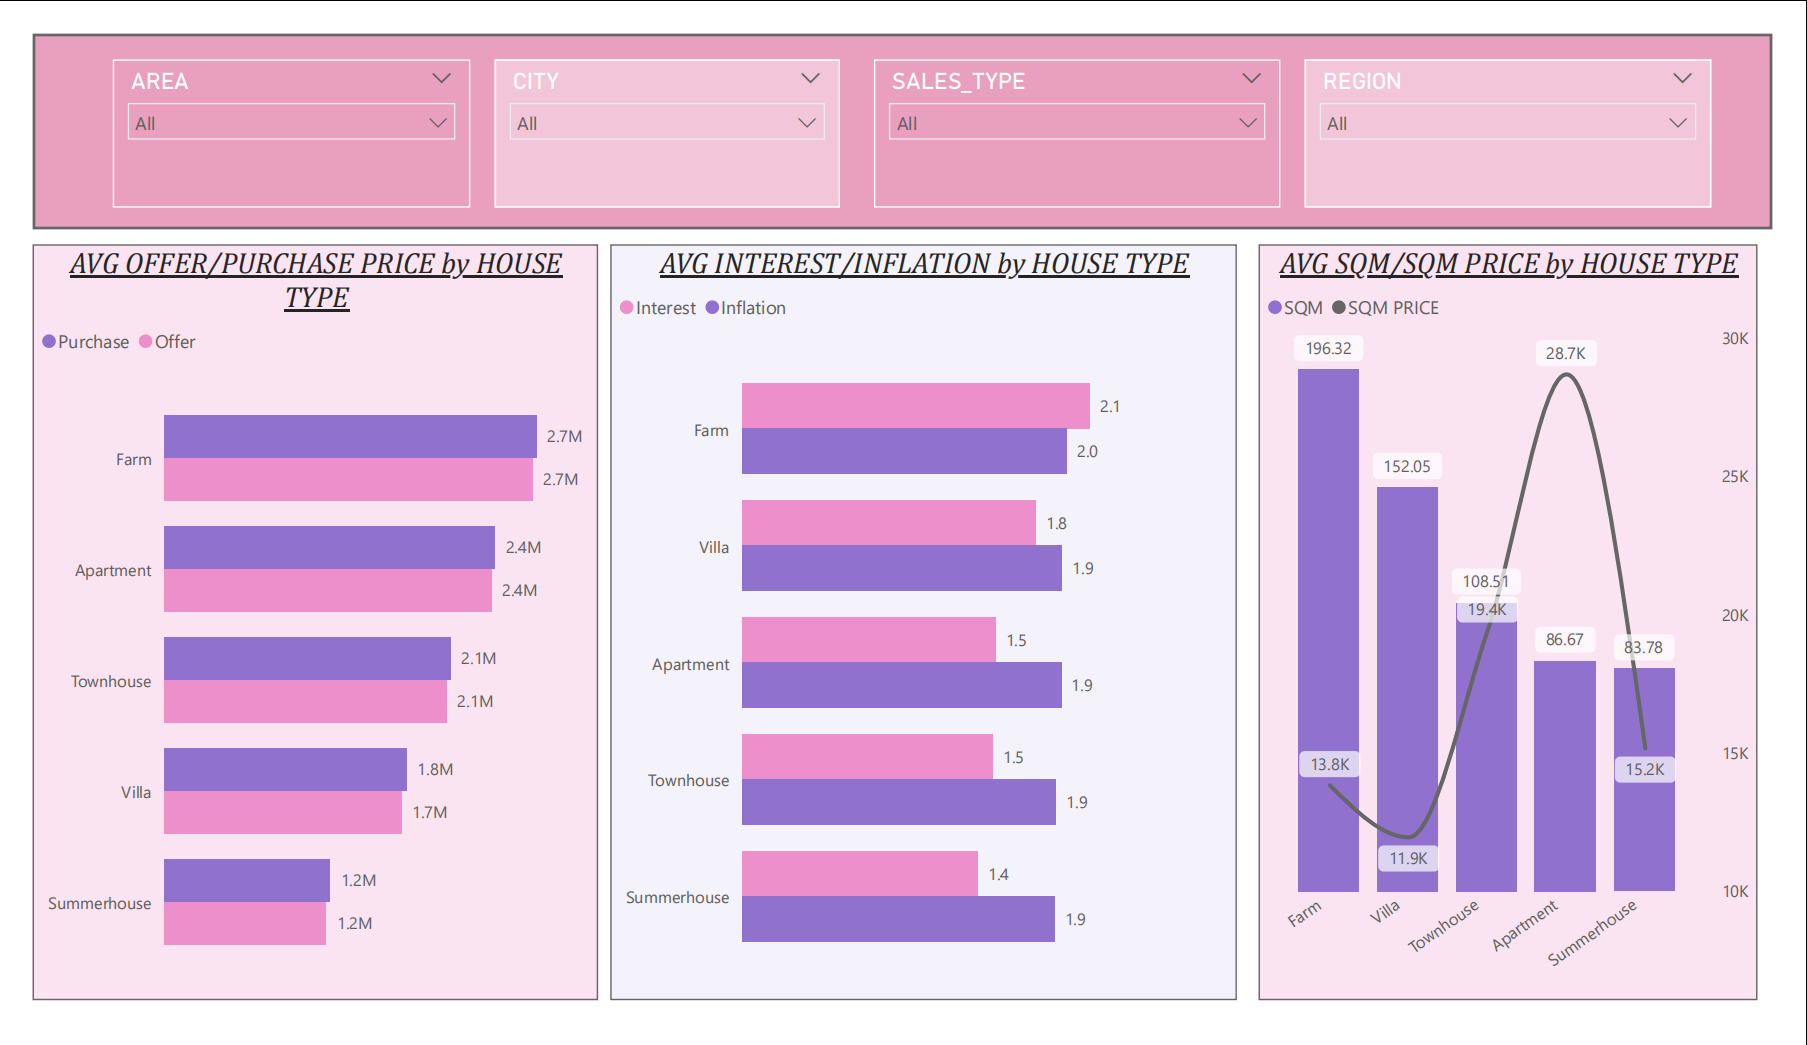

The dashboard page shown, as its layout file describes it:
{"tool":"powerbi","page":{"name":"HOUSE TYPE OVERVIEW","canvas":[1280,720],"ordinal":2},"visuals":[{"type":"clusteredBarChart","title":"AVG OFFER/PURCHASE PRICE by HOUSE TYPE","fields":{"Category":["DATA.HOUSE_TYPE"],"Y":["Avg(DATA.PURCHASE_PRICE)","Avg(DATA.OFFER_PRICE)"]},"box":[0,155.1,415.8,555.7],"z":0},{"type":"shape","box":[0,0,1280.3,144.1],"z":1000},{"type":"clusteredBarChart","title":"AVG INTEREST/INFLATION by HOUSE TYPE","fields":{"Category":["DATA.HOUSE_TYPE"],"Y":["Avg(DATA.NOM_INTEREST_RATE%)","Avg(DATA.DK_ANN_INFL_RATE%)"]},"box":[425.4,155.1,461.1,555.7],"z":2000},{"type":"lineStackedColumnComboChart","title":"AVG SQM/SQM PRICE by HOUSE TYPE","fields":{"Category":["DATA.HOUSE_TYPE"],"Y":["Avg(DATA.SQM)"],"Y2":["Avg(DATA.SQM_PRICE)"]},"box":[901.5,155.1,367.8,555.7],"z":3000},{"type":"slicer","fields":{"Values":["DATA.AREA"]},"box":[59,19.2,263.5,108.4],"z":4000},{"type":"slicer","fields":{"Values":["DATA.CITY"]},"box":[340.3,19.2,253.9,108.4],"z":5000},{"type":"slicer","fields":{"Values":["DATA.SALES_TYPE"]},"box":[618.9,19.2,299.1,108.4],"z":6000},{"type":"slicer","fields":{"Values":["DATA.REGION"]},"box":[935.9,19.2,299.1,108.4],"z":7000}]}

Visuals, with their boxes in screenshot pixels (x1, y1, x2, y2), scaled from the page's 1280x720 canvas onto the 1807x1045 screenshot:
"AVG OFFER/PURCHASE PRICE by HOUSE TYPE" clusteredBarChart: bbox=[0, 225, 587, 1032]
shape: bbox=[0, 0, 1806, 209]
"AVG INTEREST/INFLATION by HOUSE TYPE" clusteredBarChart: bbox=[601, 225, 1251, 1032]
"AVG SQM/SQM PRICE by HOUSE TYPE" lineStackedColumnComboChart: bbox=[1273, 225, 1792, 1032]
slicer - DATA.AREA: bbox=[83, 28, 455, 185]
slicer - DATA.CITY: bbox=[480, 28, 839, 185]
slicer - DATA.SALES_TYPE: bbox=[874, 28, 1296, 185]
slicer - DATA.REGION: bbox=[1321, 28, 1743, 185]
